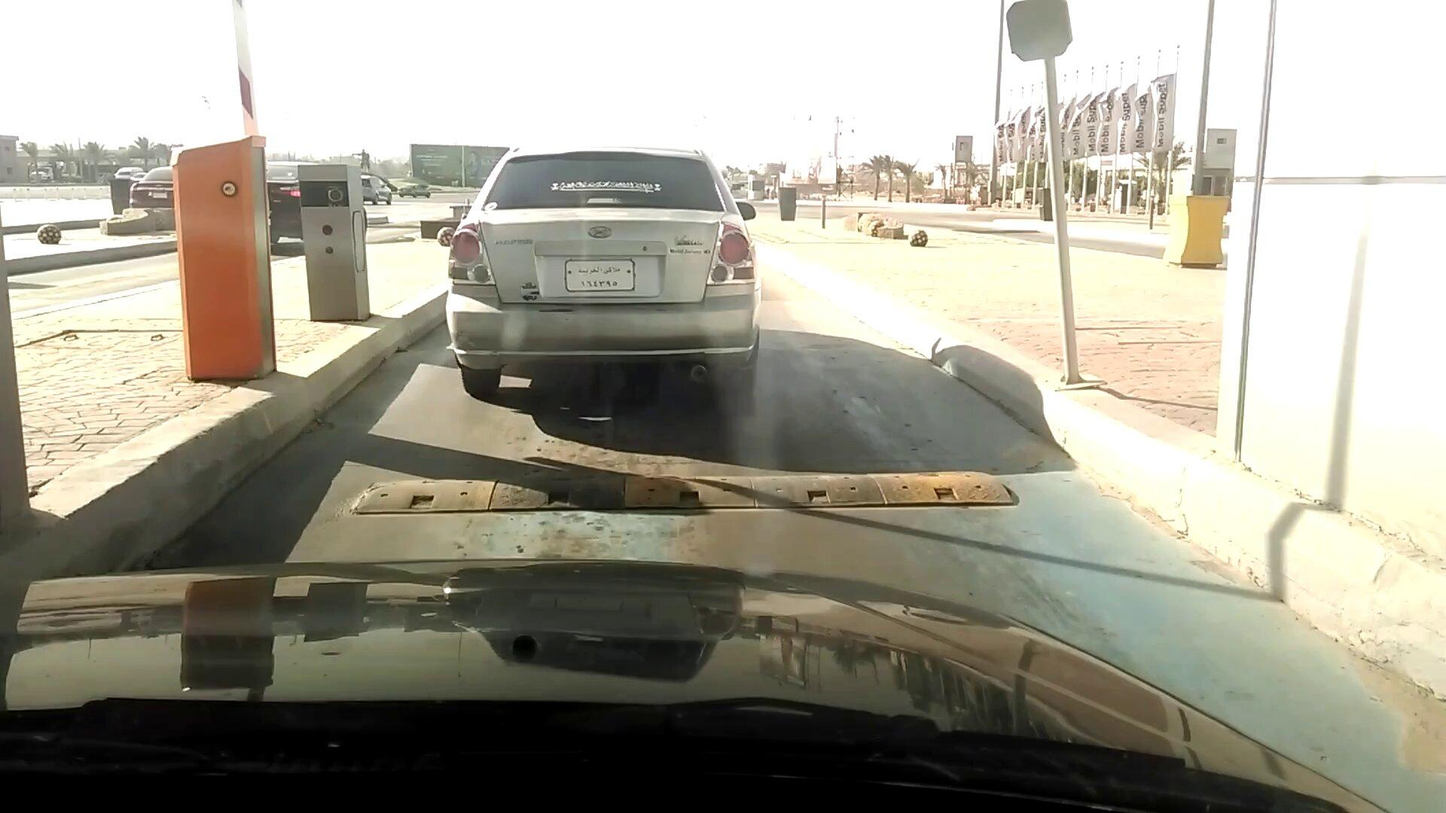Bump: (375, 457, 1047, 514)
